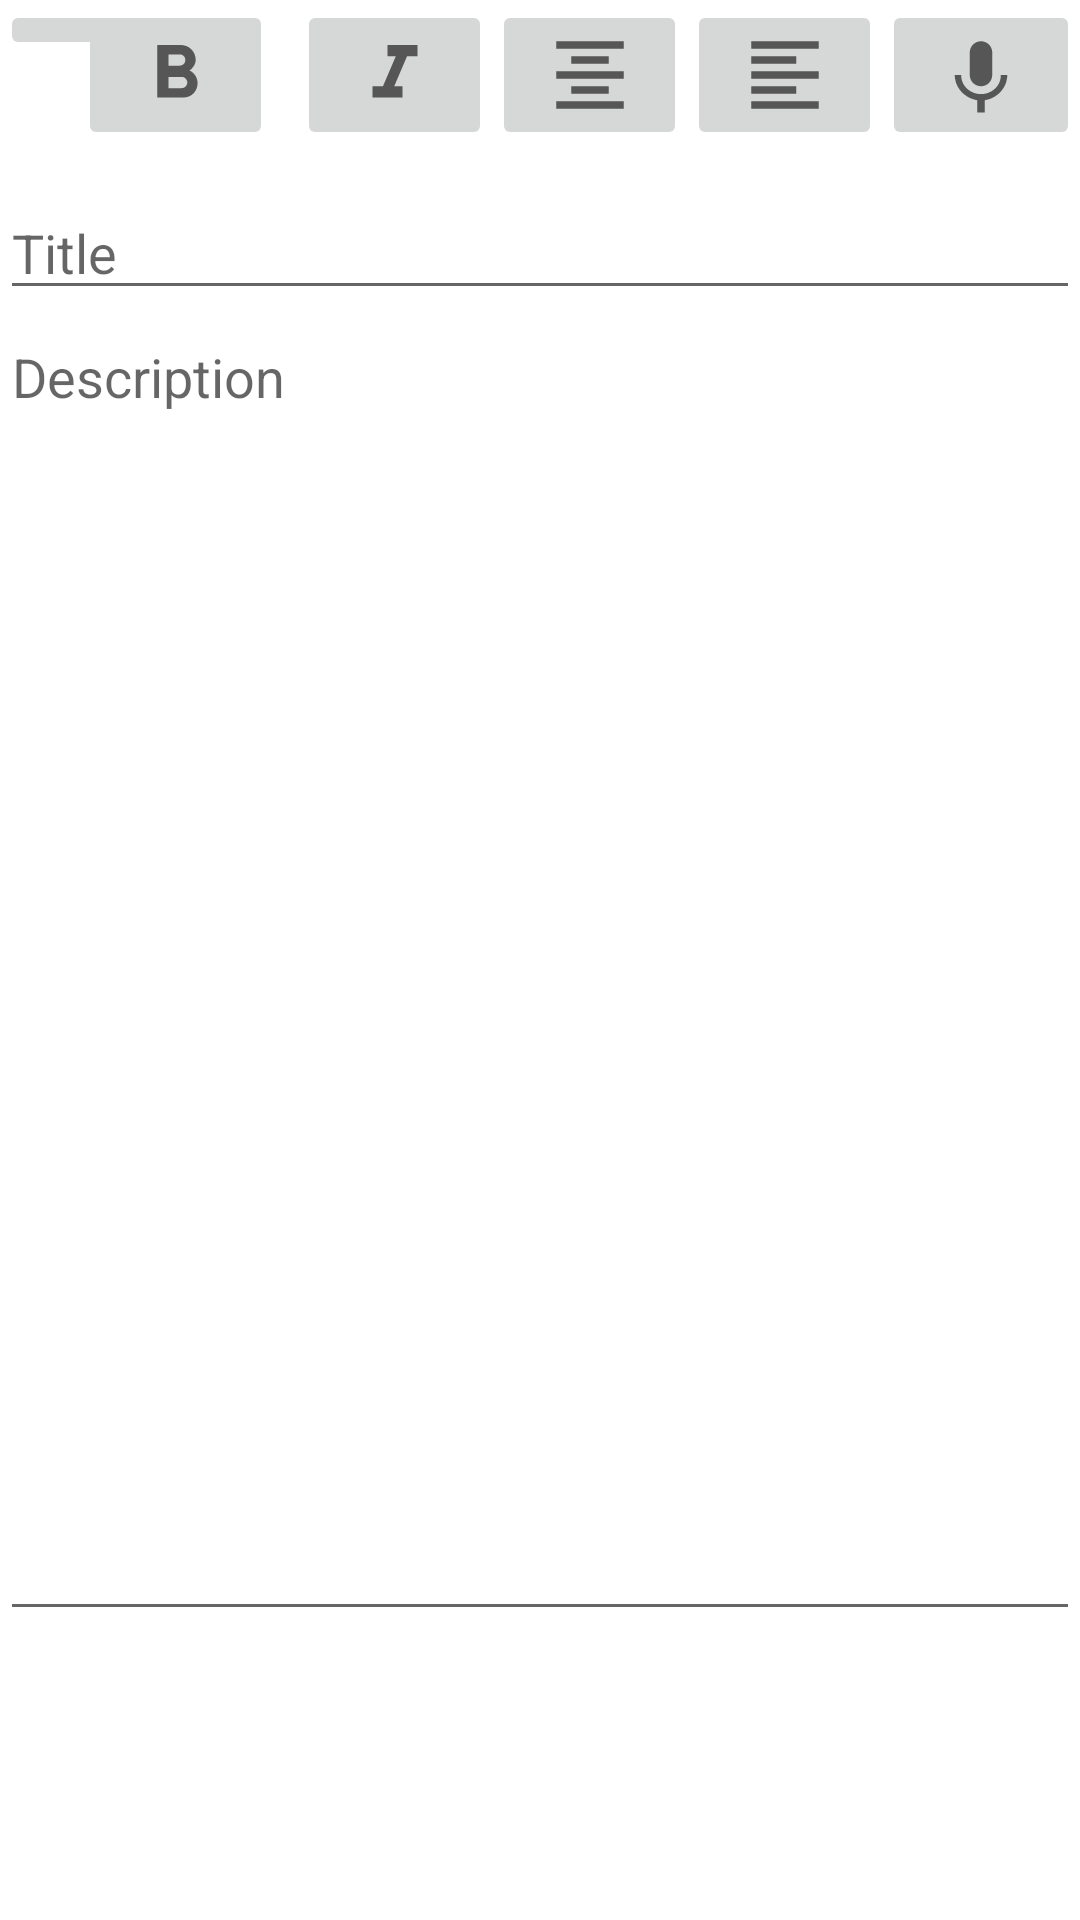

Point at icon controls on the screen. Image size 1080 × 1920, points as point (x, y).
format: point (169, 75)
format align center: point (589, 75)
format align left: point (784, 75)
format italic: point (394, 75)
keyboard voice: point (981, 75)
